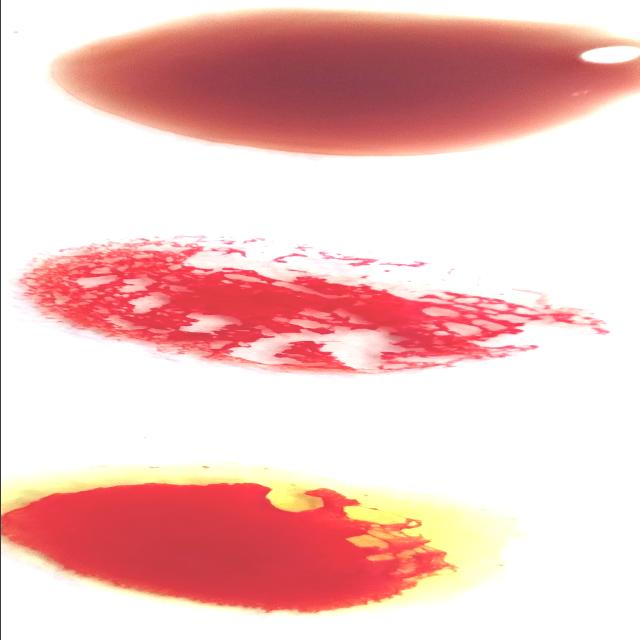B: (2, 477, 550, 611)
D: (16, 238, 608, 378)
